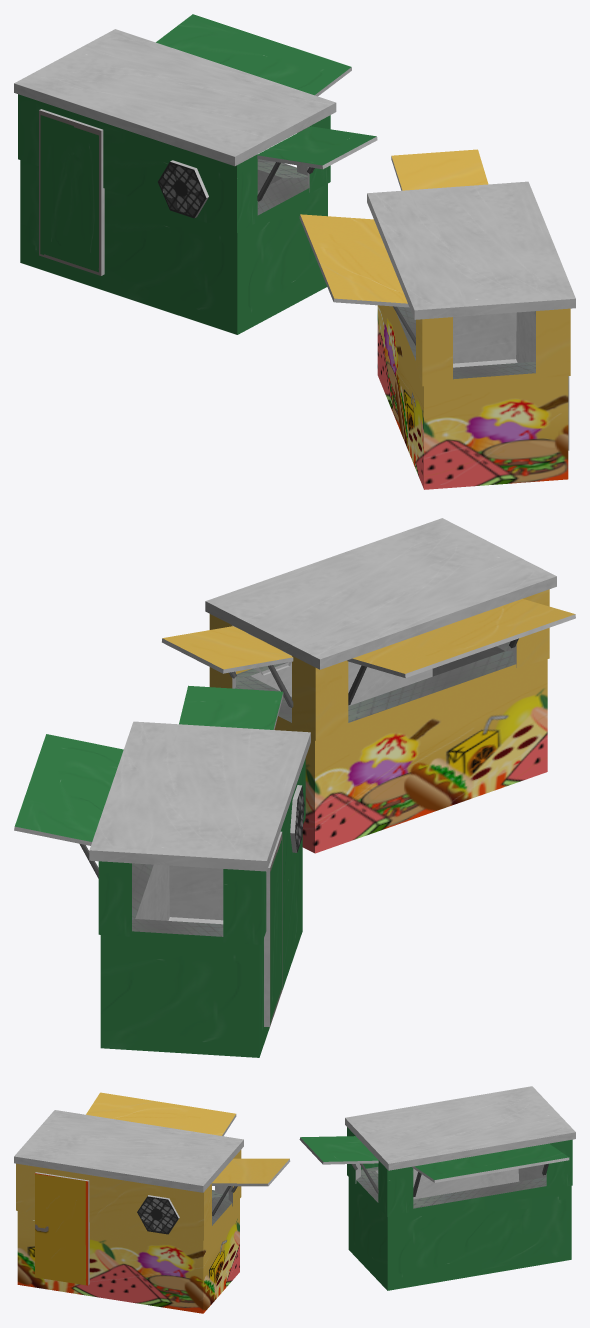
Rendered from trailer.fbx.
The picture shows the model from 3 angles, top to bottom: view 1: azimuth 30°, elevation 25°; view 2: azimuth 150°, elevation 25°; view 3: azimuth 270°, elevation 25°; orthographic projection. The views are drawn at different scales.
Parts seen in each view (by area): view 1: trailer verde, trailer colorido; view 2: trailer colorido, trailer verde; view 3: trailer colorido, trailer verde.
Boxes of the visible parts, left/top/right/bottom form: trailer verde: left=14, top=14, right=377, bottom=334; trailer colorido: left=299, top=149, right=575, bottom=489; trailer colorido: left=162, top=518, right=575, bottom=853; trailer verde: left=14, top=685, right=310, bottom=1057; trailer colorido: left=14, top=1092, right=290, bottom=1313; trailer verde: left=299, top=1086, right=575, bottom=1290.
Bounding box in the file's own units: 345 × 210 × 819.
